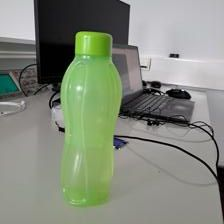bottle: (56, 30, 121, 207)
